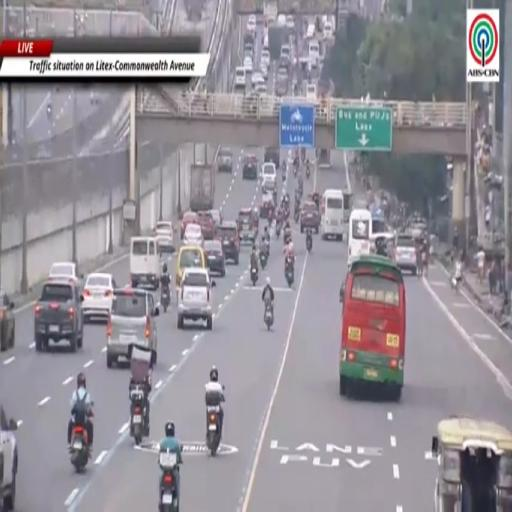bus: (340, 255, 405, 401), (348, 210, 371, 265), (321, 189, 344, 241), (343, 189, 353, 223), (316, 149, 331, 168)
car: (107, 288, 159, 367), (35, 279, 83, 351), (178, 268, 215, 330), (0, 405, 18, 511), (83, 274, 116, 323), (216, 221, 239, 264), (394, 234, 417, 275), (0, 291, 15, 351), (204, 240, 225, 277), (237, 208, 258, 244), (300, 200, 320, 233), (155, 220, 175, 252), (48, 262, 79, 282), (183, 223, 203, 246), (198, 211, 214, 239), (181, 212, 197, 239), (259, 192, 275, 218), (262, 163, 276, 191), (243, 154, 257, 180), (217, 148, 232, 172), (264, 148, 280, 168), (280, 44, 290, 66), (277, 64, 288, 84), (251, 72, 265, 87), (210, 210, 222, 226), (276, 83, 288, 97), (247, 15, 256, 33), (243, 57, 253, 73), (261, 51, 270, 67), (260, 61, 268, 79), (255, 84, 267, 95), (244, 43, 253, 57), (286, 15, 294, 29)
jeepney: (432, 416, 511, 511)
motorcycle: (129, 346, 151, 445), (159, 452, 179, 511), (130, 387, 148, 445), (206, 406, 221, 456), (264, 301, 273, 330), (285, 259, 294, 286), (161, 287, 170, 312), (283, 229, 291, 245), (264, 236, 270, 257), (260, 251, 267, 269), (306, 232, 312, 252), (251, 266, 257, 285), (283, 204, 290, 220), (276, 221, 281, 238), (298, 184, 303, 198), (301, 148, 305, 163), (294, 210, 299, 222), (282, 168, 286, 182), (306, 167, 310, 179), (294, 166, 298, 178), (88, 411, 93, 418)
truck: (190, 164, 214, 211)
